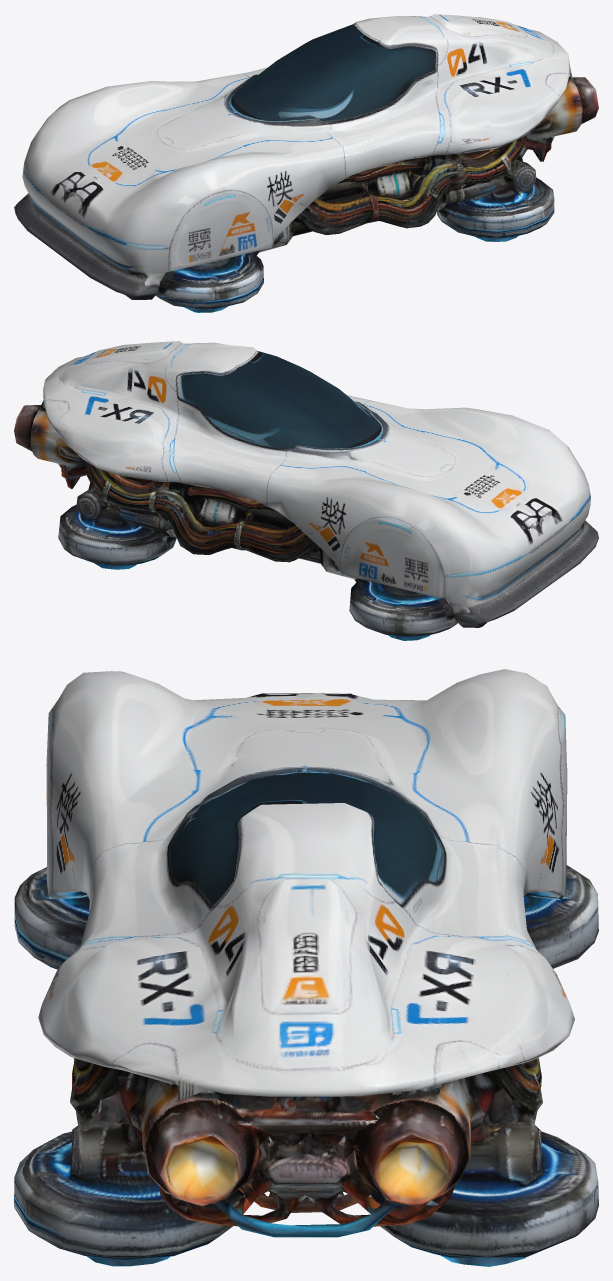
Rendered from kart3.glb.
The picture shows the model from 3 angles, top to bottom: view 1: azimuth 30°, elevation 25°; view 2: azimuth 150°, elevation 25°; view 3: azimuth 270°, elevation 25°; orthographic projection. The views are drawn at different scales.
Visible parts, largest first — view 1: Mesh_LOD2; view 2: Mesh_LOD2; view 3: Mesh_LOD2.
Part boxes in pixels (bbox=[...]): Mesh_LOD2: bbox=[14, 14, 598, 312]; Mesh_LOD2: bbox=[14, 341, 598, 640]; Mesh_LOD2: bbox=[14, 669, 598, 1266].
Bounding box in the file's own units: 1.9 × 0.6829 × 0.9821.
1 material, 1 textured.
